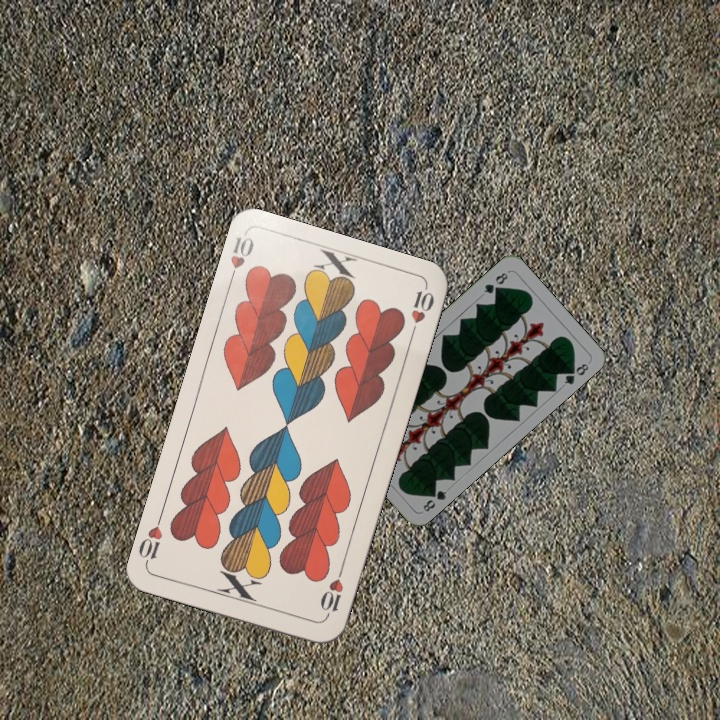G8: (419, 484, 450, 514), (480, 268, 510, 296)
H10: (224, 232, 257, 288), (316, 563, 347, 621)
